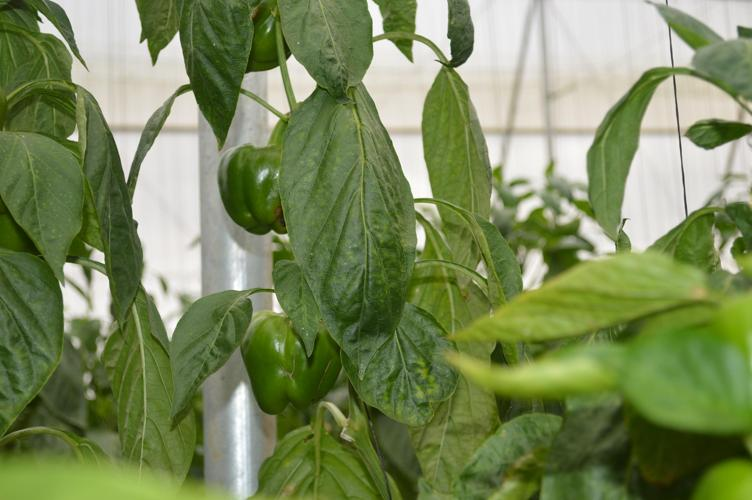BellPepper: (230, 306, 343, 424), (214, 142, 309, 245)
